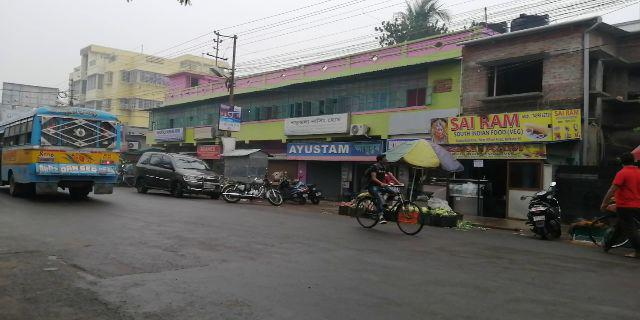Bus: (14, 103, 121, 200)
Car: (135, 150, 219, 193)
Cycle: (353, 181, 427, 234)
Motorbike: (222, 173, 284, 209), (519, 191, 565, 236)
